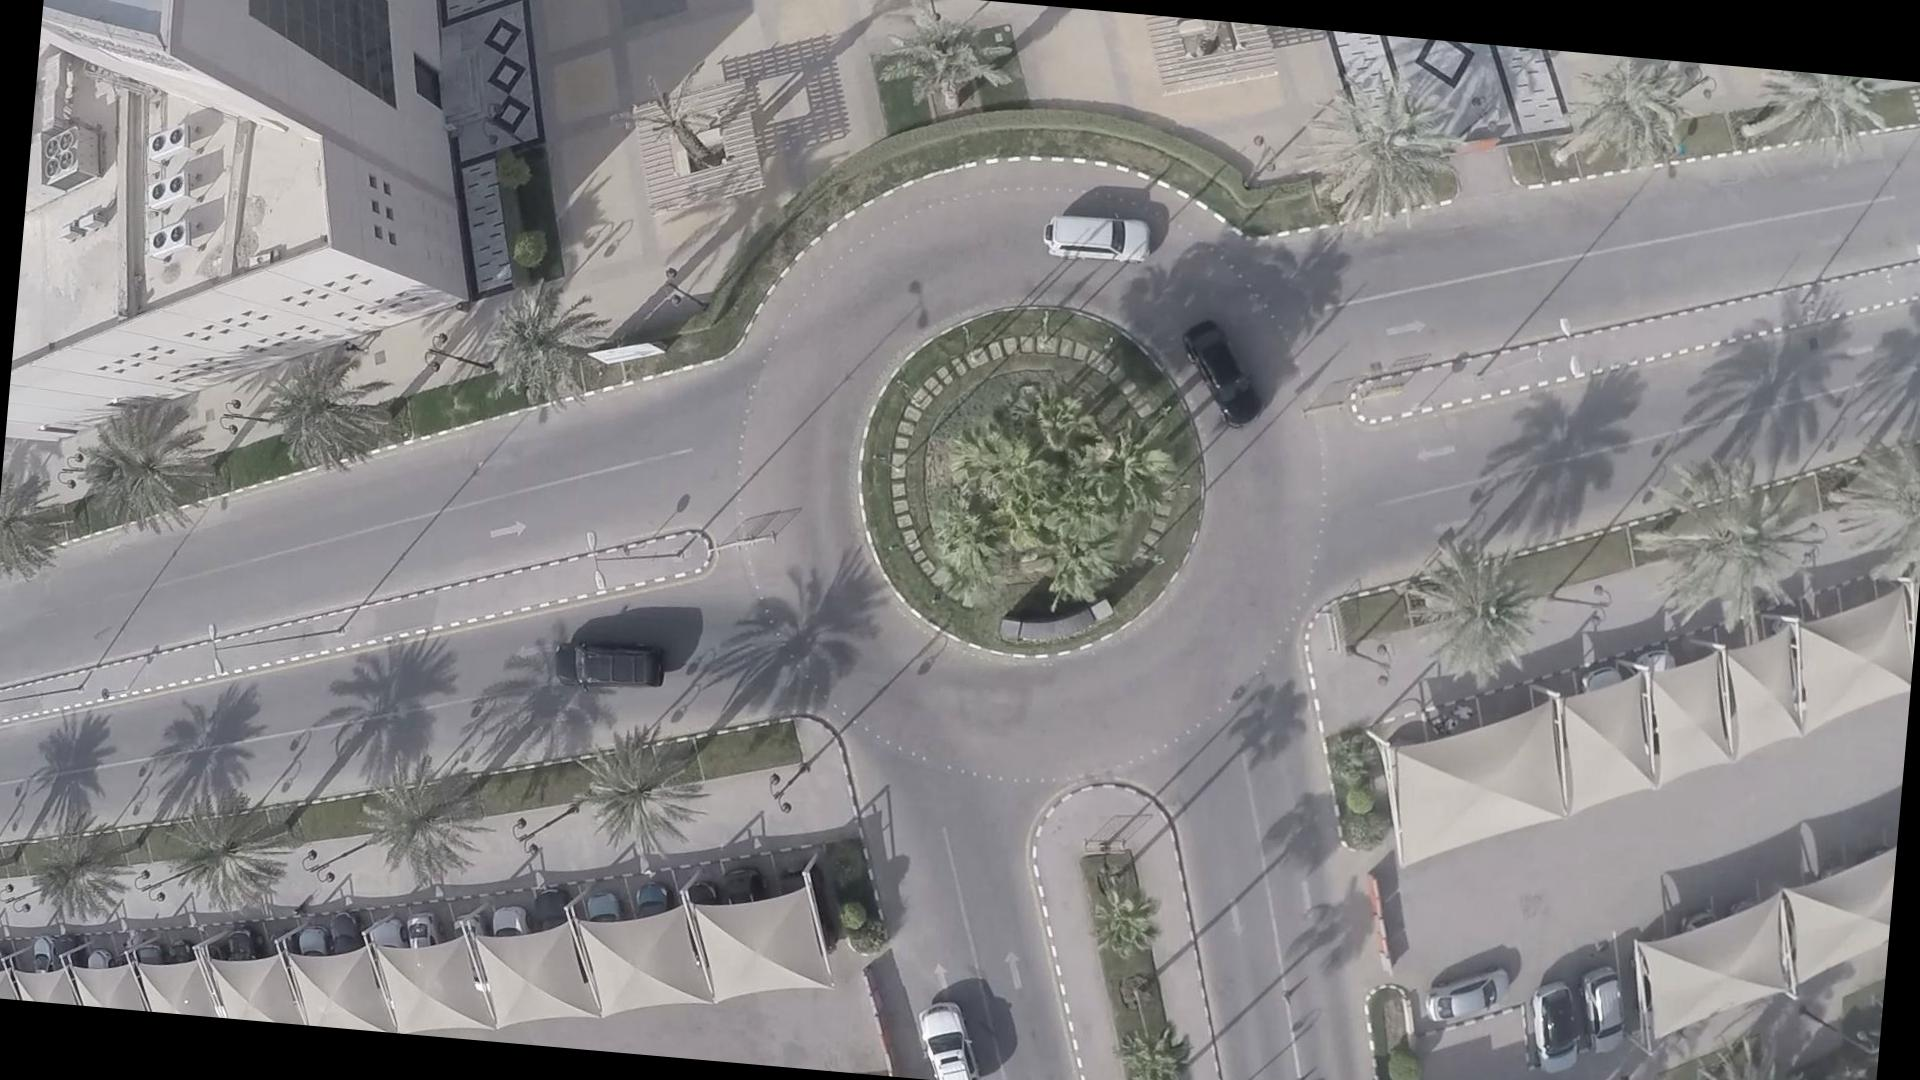vehicle: (1166, 320, 1263, 436), (538, 641, 675, 709), (1036, 211, 1145, 289)
